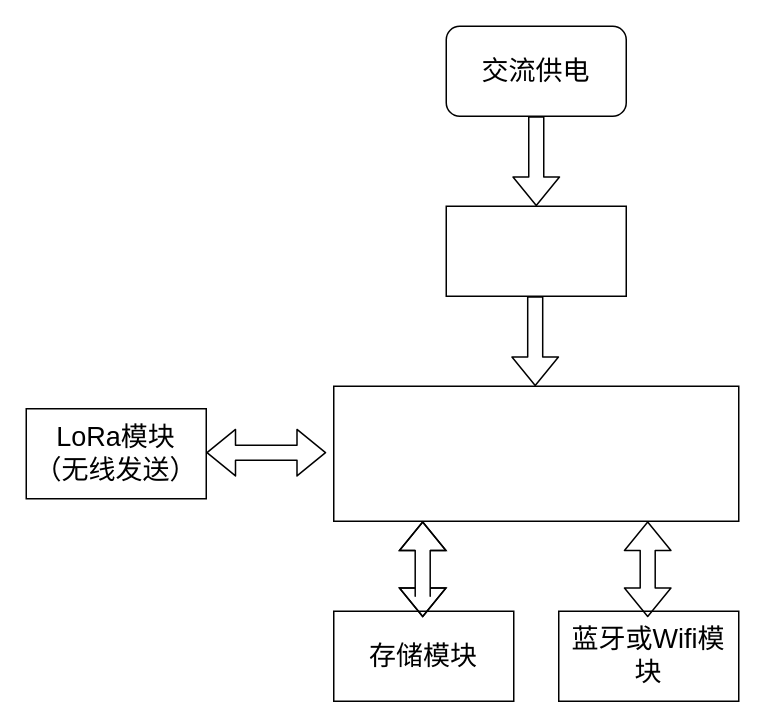
The diagram is 765 pixels wide and 728 high, and some of its shapes have lost their labels. The centre of each missing label's shape, as x and y in pixels:
"核心控制模块" belongs at point 535,453.
"电源模块" belongs at point 535,250.
